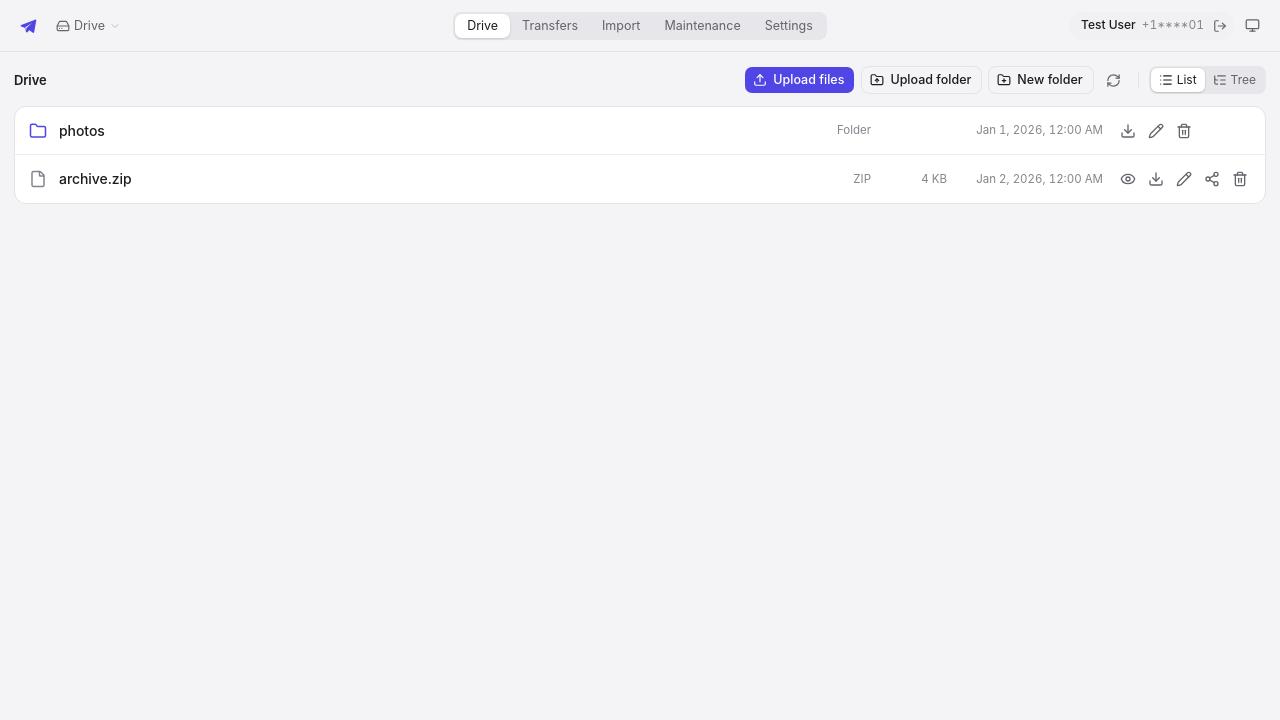
the Preview row action opens the preview, and Close returns focus and the directory
This screenshot has width=1280, height=720.
Click the button "photos" at (82, 130), box [59,120,795,140]
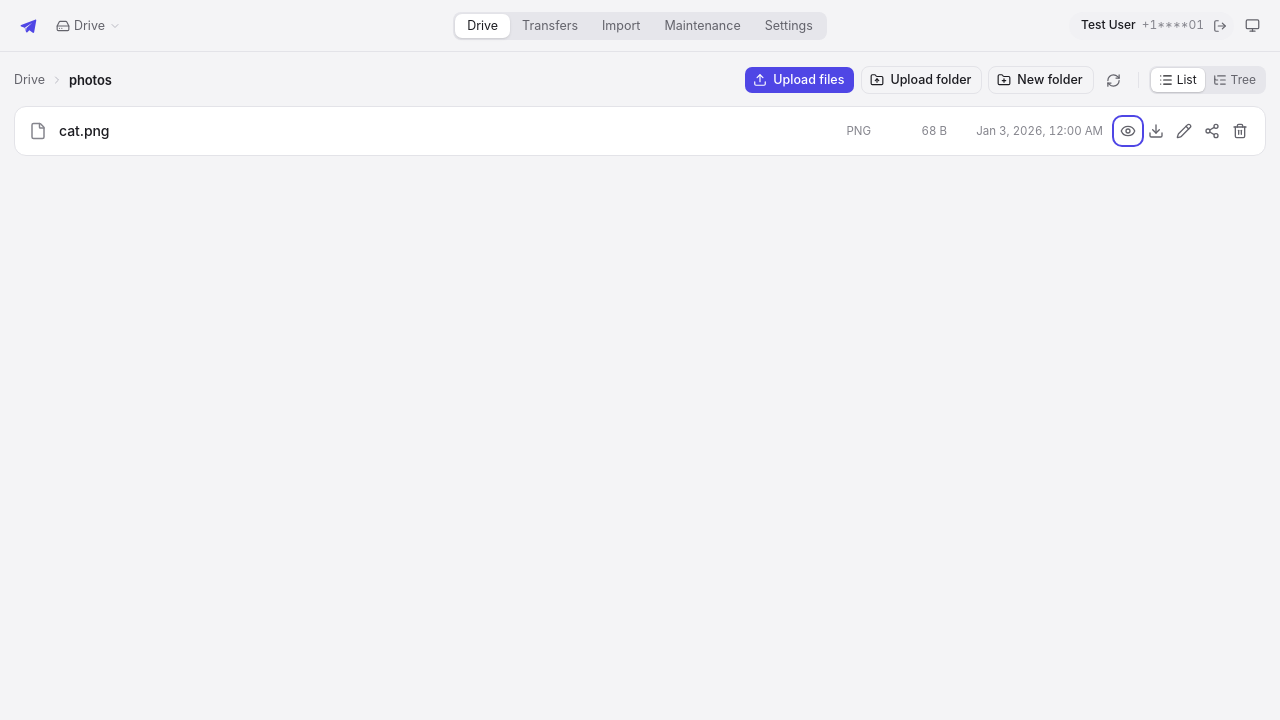
Click the button named "Preview" at (1128, 131), box [1115,118,1141,144]
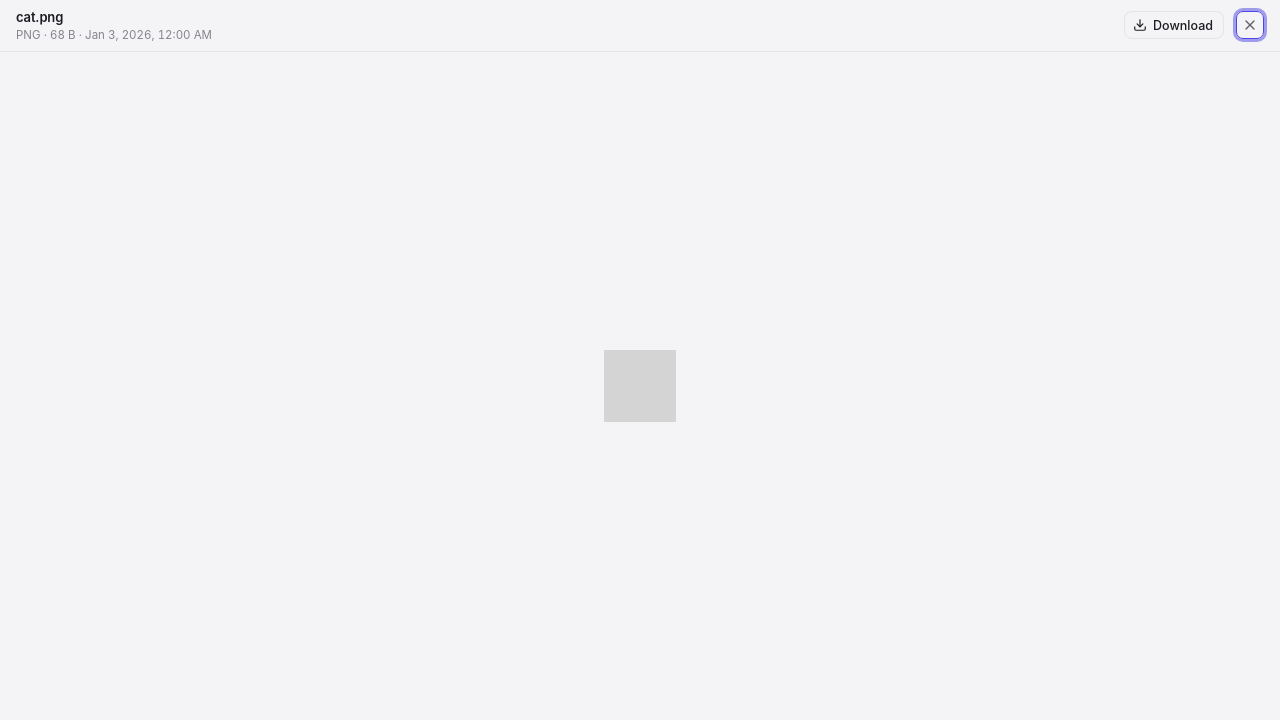
Click the button named "Close preview" at (1250, 26), box [1236,12,1264,40]
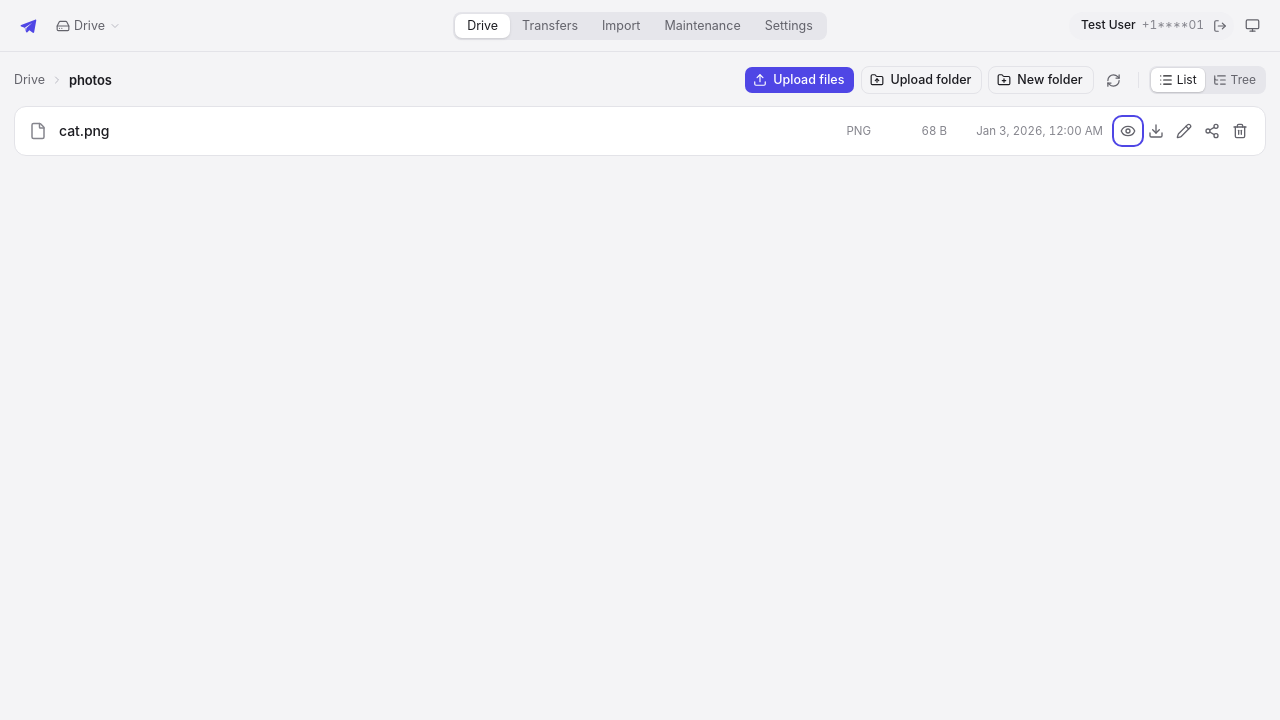
expect the dialog is gone: met
